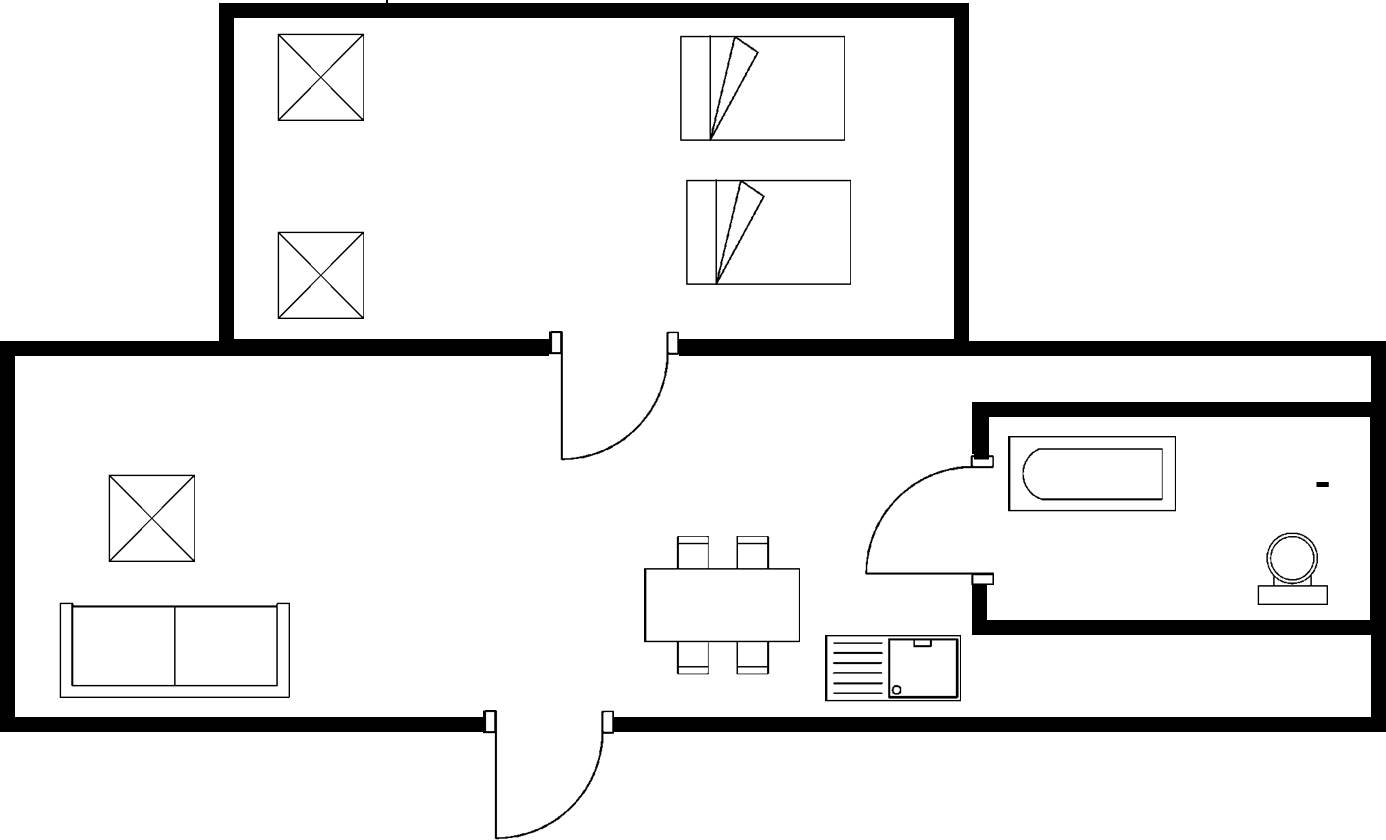bed: (673, 29, 852, 147), (679, 173, 855, 292)
coffee_table: (270, 223, 371, 326), (101, 468, 201, 569), (272, 29, 371, 128)
dining_table: (637, 530, 807, 683)
large_sink: (1249, 525, 1339, 611)
large_sofa: (52, 597, 298, 703)
sink: (820, 631, 968, 707)
tub: (1001, 429, 1181, 518)
